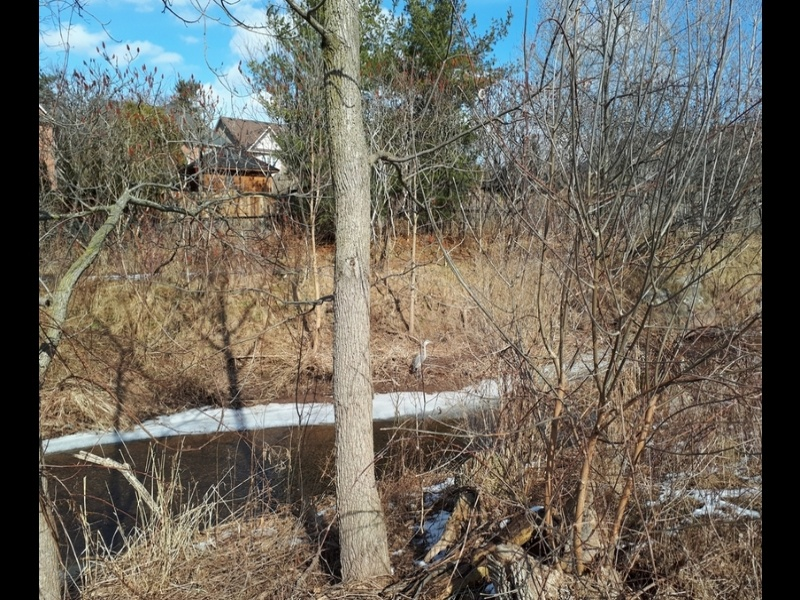heron: (408, 338, 434, 376)
